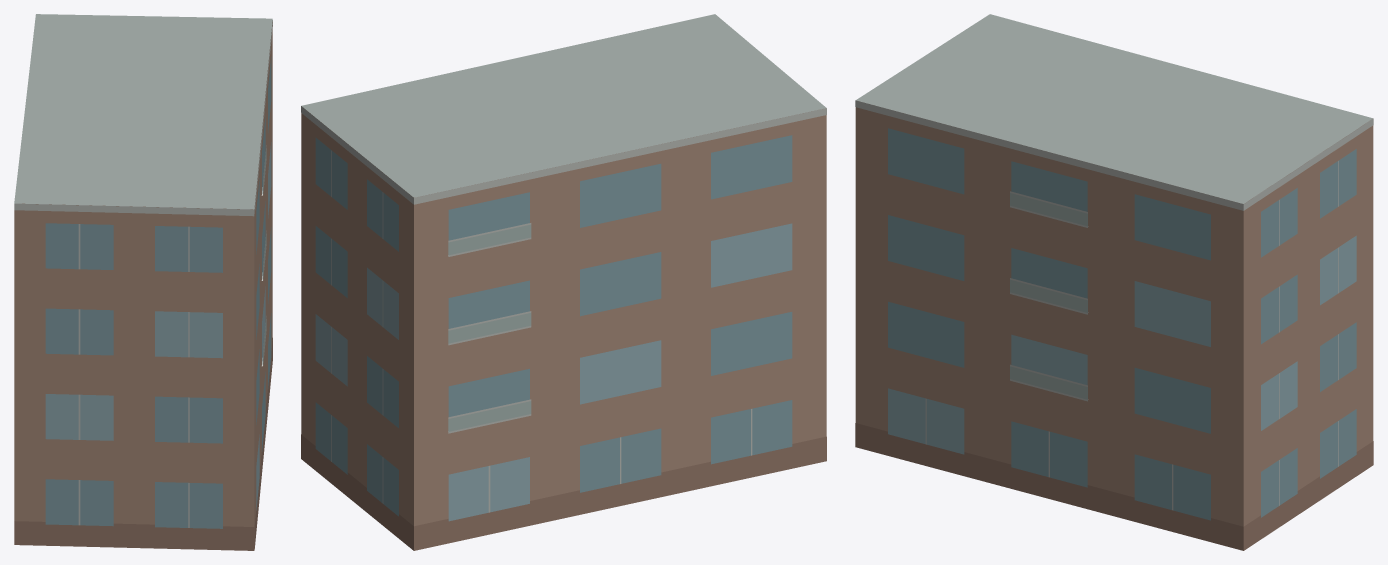
Rendered from survey-upis-32692647.glb.
The picture shows the model from 3 angles, left to right: view 1: azimuth 30°, elevation 25°; view 2: azimuth 150°, elevation 25°; view 3: azimuth 270°, elevation 25°; orthographic projection. The views are drawn at different scales.
Visible parts, largest first — view 1: survey-upis-32692647.tmp; view 2: survey-upis-32692647.tmp; view 3: survey-upis-32692647.tmp.
Part boxes in pixels (bbox=[...]): survey-upis-32692647.tmp: bbox=[14, 14, 272, 550]; survey-upis-32692647.tmp: bbox=[301, 14, 826, 550]; survey-upis-32692647.tmp: bbox=[855, 14, 1373, 550].
Bounding box in the file's own units: 14.58 × 12.4 × 16.79.
